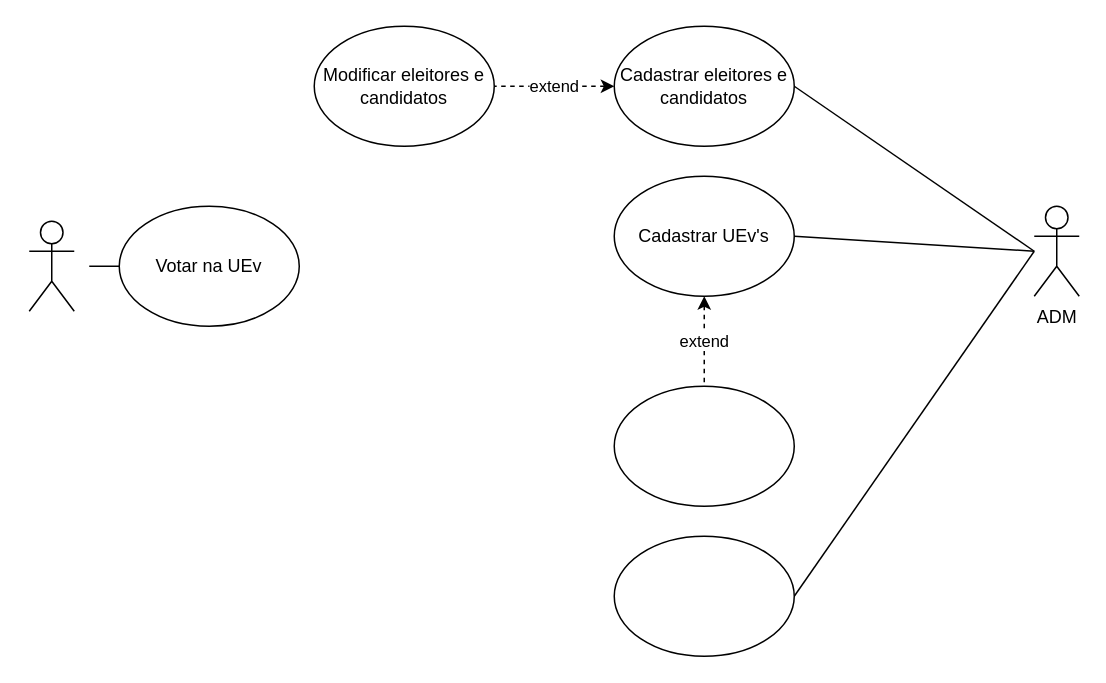
This 1106x683 diagram has some shape labels left out. The shapes that lost their labels are listed below. From the top down, each one's centre as x and y in pixels, then its label:
At (51,265): "Eleitor".
At (703,445): "Preparação para votação".
At (703,595): "Verificar votos".
